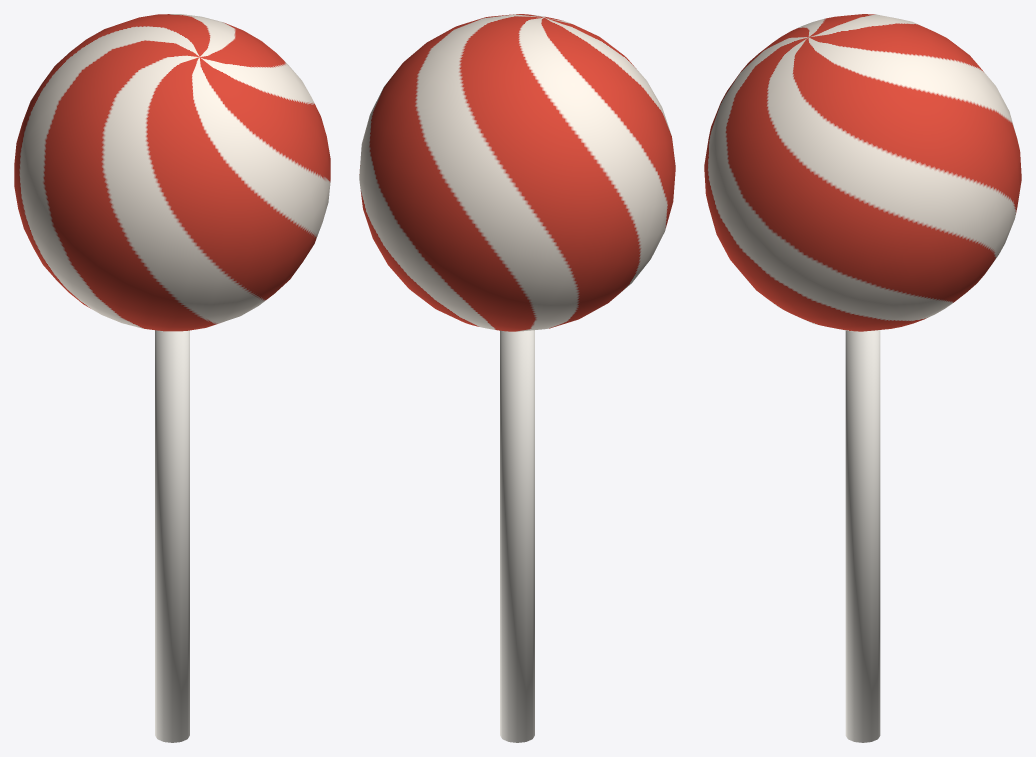
Rendered from big-candy.glb.
3 views of the same model, side by side, from view 1: azimuth 30°, elevation 25°; view 2: azimuth 150°, elevation 25°; view 3: azimuth 270°, elevation 25° (orthographic).
Visible parts, largest first — view 1: candy, stick; view 2: candy, stick; view 3: candy, stick.
Boxes of the visible parts, x1,y1,x2,y2 form: candy: (14, 14, 330, 331); stick: (155, 330, 189, 742); candy: (359, 14, 675, 331); stick: (500, 330, 534, 742); candy: (704, 14, 1021, 331); stick: (845, 330, 880, 742).
Size of the model in its own units: 0.64 by 1.57 by 0.6394.
Materials: 2 (1 with a texture image).
